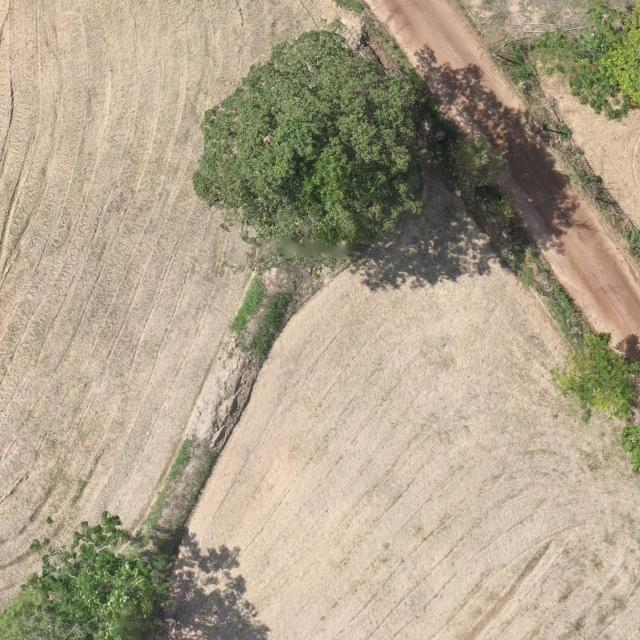Tree: (190, 27, 440, 266), (0, 507, 186, 640), (549, 328, 640, 424)
